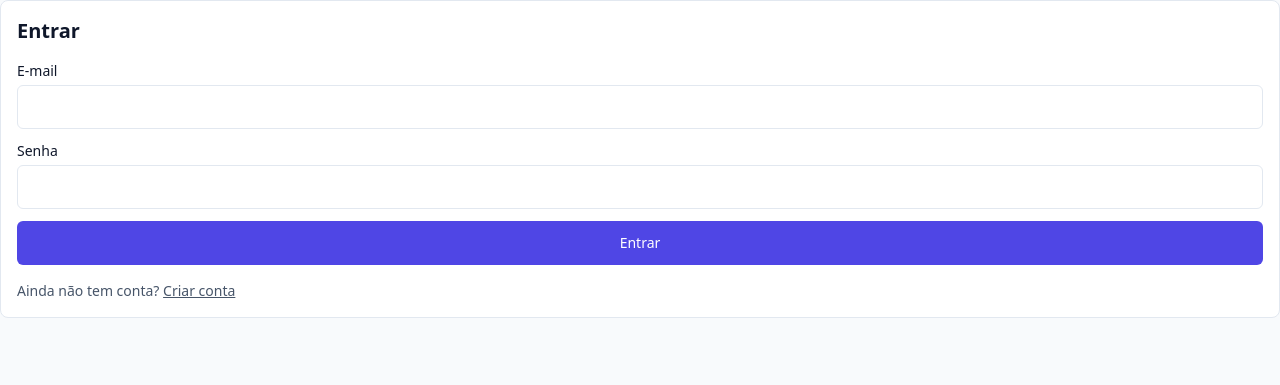
Test: AuthPage › mostra mensagem traduzida quando o servidor recusa as credenciais
The image size is (1280, 385).
Type "a@example.com" into the field labelled "E-mail" at (640, 107), box [17,85,1263,129]
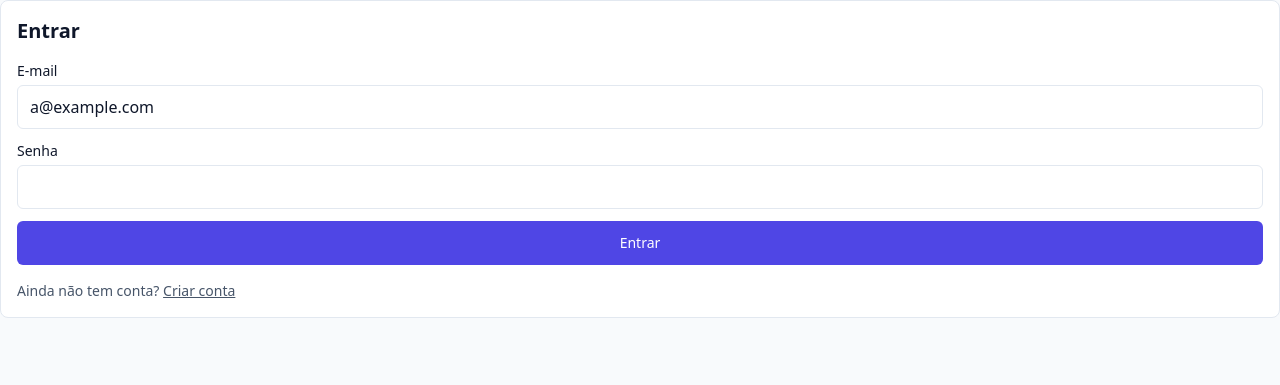
Type "qualquer-senha-123" into the password field labelled "Senha" at (640, 187), box [17,165,1263,209]
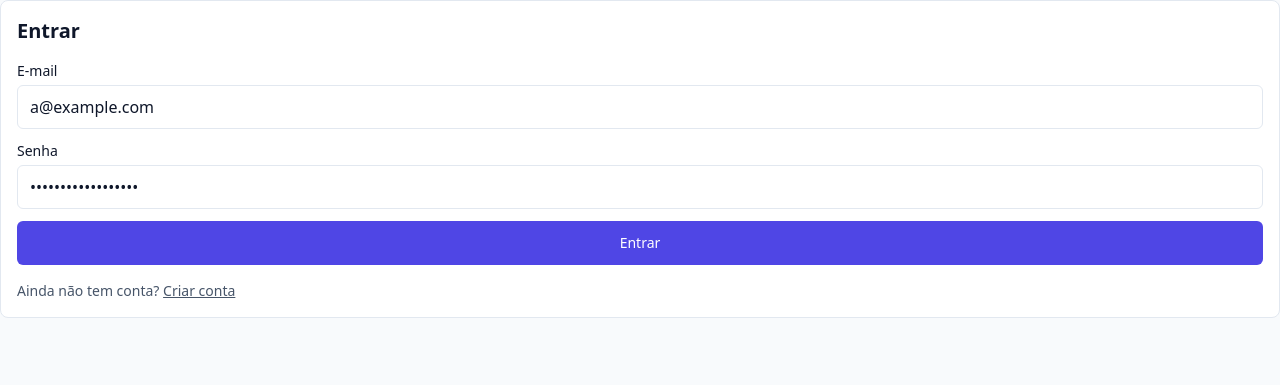
Click the button "Entrar" at (640, 243), box [17,221,1263,265]
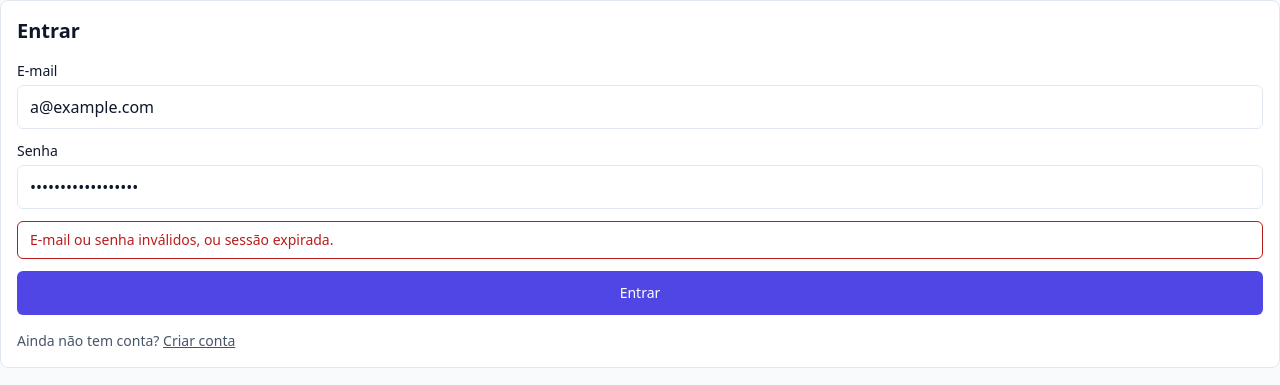
expect the message shows "E-mail ou senha inválidos": met, box [30,230,334,249]
